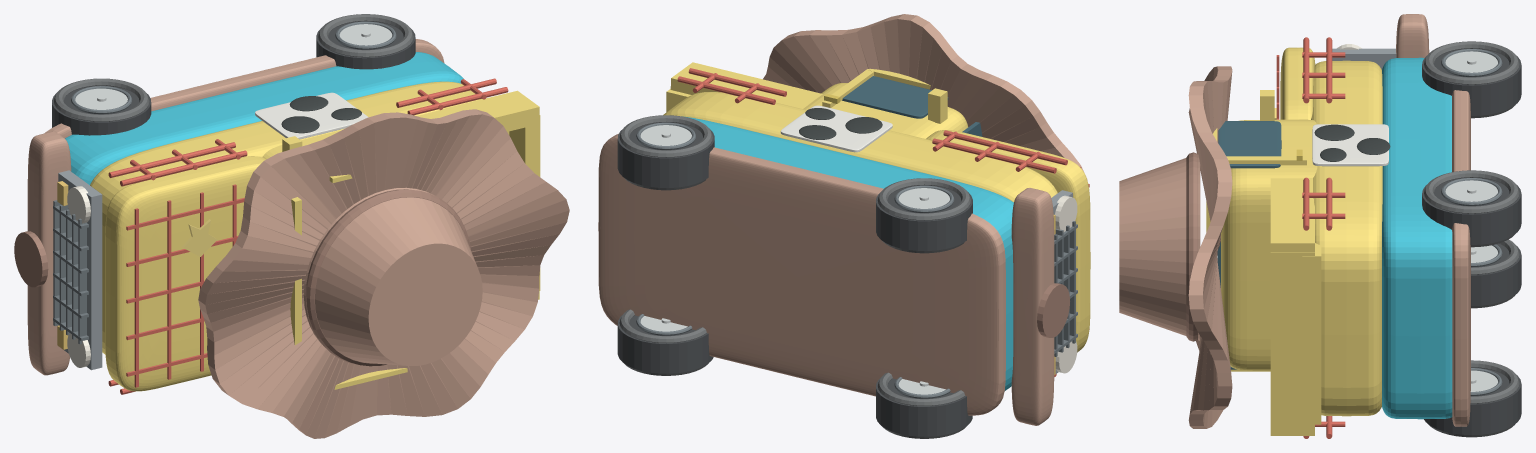
The model's file is cowboy_pickup_game.glb.
3 renders of one model, left to right at view 1: azimuth 30°, elevation 25°; view 2: azimuth 150°, elevation 25°; view 3: azimuth 270°, elevation 25°, orthographic. The views are drawn at different scales.
Visible parts, largest first — view 1: hat__brown, body__yellow, body__blue, body__brown, body__red_dark, body__steel_dark, body__steel, hat__brown_dark, body__white, front_L__tire, rear_L__tire, front_L__rubber_soft (+9 smaller); view 2: body__brown, body__yellow, hat__brown, body__blue, front_L__tire, rear_L__tire, body__red_dark, front_R__tire, rear_R__tire, body__glass_dark, body__steel_dark, body__white (+13 smaller); view 3: body__yellow, body__blue, hat__brown, body__brown, body__red_dark, rear_L__tire, front_L__tire, body__glass_dark, rear_R__tire, body__white, hat__brown_dark, front_R__tire (+11 smaller).
Part boxes in pixels (left/top/right/bottom): hat__brown: left=198, top=109, right=569, bottom=438; body__yellow: left=90, top=81, right=540, bottom=391; body__blue: left=65, top=52, right=463, bottom=184; body__brown: left=27, top=39, right=444, bottom=375; body__red_dark: left=108, top=78, right=508, bottom=394; body__steel_dark: left=53, top=200, right=88, bottom=344; body__steel: left=58, top=170, right=102, bottom=370; hat__brown_dark: left=305, top=189, right=470, bottom=366; body__white: left=255, top=92, right=368, bottom=139; front_L__tire: left=52, top=85, right=151, bottom=135; rear_L__tire: left=316, top=21, right=415, bottom=69; front_L__rubber_soft: left=54, top=78, right=149, bottom=121; body__brown: left=598, top=133, right=1054, bottom=425; body__yellow: left=663, top=62, right=1090, bottom=352; hat__brown: left=763, top=14, right=1087, bottom=179; body__blue: left=682, top=116, right=1013, bottom=390; front_L__tire: left=876, top=185, right=972, bottom=250; rear_L__tire: left=617, top=122, right=714, bottom=187; body__red_dark: left=677, top=68, right=1089, bottom=376; front_R__tire: left=876, top=378, right=972, bottom=436; rear_R__tire: left=617, top=315, right=713, bottom=373; body__glass_dark: left=842, top=76, right=982, bottom=136; body__steel_dark: left=1054, top=221, right=1077, bottom=356; body__white: left=780, top=105, right=892, bottom=152; body__yellow: left=1206, top=47, right=1382, bottom=435; body__blue: left=1382, top=57, right=1452, bottom=419; hat__brown: left=1119, top=66, right=1232, bottom=428; body__brown: left=1396, top=14, right=1470, bottom=426; body__red_dark: left=1276, top=37, right=1345, bottom=438; rear_L__tire: left=1422, top=177, right=1521, bottom=244; front_L__tire: left=1422, top=48, right=1521, bottom=115; body__glass_dark: left=1217, top=121, right=1281, bottom=369; rear_R__tire: left=1424, top=367, right=1521, bottom=434; body__white: left=1312, top=124, right=1388, bottom=166; hat__brown_dark: left=1186, top=152, right=1200, bottom=341; front_R__tire: left=1471, top=243, right=1521, bottom=305.
Size of the model in its own units: 3.81 by 2.57 by 2.99.
